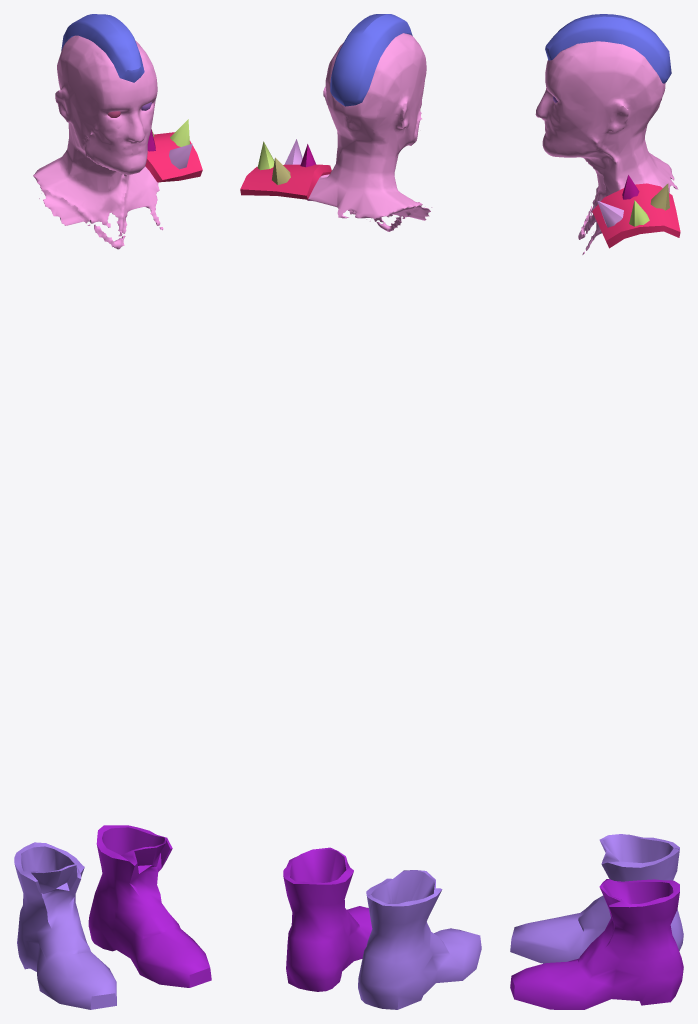
The picture shows the model from 3 angles, left to right: view 1: azimuth 30°, elevation 25°; view 2: azimuth 150°, elevation 25°; view 3: azimuth 270°, elevation 25°; orthographic projection.
Parts seen in each view (by area): view 1: split_parent_1, L_Shoe_Low_Final_0, L_Shoe_Low_Final_0.020, L_Hair_Low_Final_0, L_Sholder_Low_Final_0.004; view 2: split_parent_1, L_Shoe_Low_Final_0.020, L_Shoe_Low_Final_0, L_Hair_Low_Final_0, L_Sholder_Low_Final_0.004; view 3: split_parent_1, L_Shoe_Low_Final_0, L_Shoe_Low_Final_0.020, L_Hair_Low_Final_0, L_Sholder_Low_Final_0.004, L_Sholder_Low_Final_0.003.
Part boxes in pixels (left/top/right/bottom): split_parent_1: left=33, top=35, right=163, bottom=249; L_Shoe_Low_Final_0: left=88, top=825, right=211, bottom=987; L_Shoe_Low_Final_0.020: left=14, top=842, right=116, bottom=1009; L_Hair_Low_Final_0: left=61, top=14, right=144, bottom=82; L_Sholder_Low_Final_0.004: left=145, top=132, right=202, bottom=182; split_parent_1: left=307, top=33, right=432, bottom=231; L_Shoe_Low_Final_0.020: left=358, top=870, right=481, bottom=1009; L_Shoe_Low_Final_0: left=283, top=847, right=372, bottom=991; L_Hair_Low_Final_0: left=330, top=14, right=412, bottom=106; L_Sholder_Low_Final_0.004: left=240, top=164, right=331, bottom=199; split_parent_1: left=535, top=41, right=678, bottom=254; L_Shoe_Low_Final_0: left=510, top=879, right=683, bottom=1009; L_Shoe_Low_Final_0.020: left=510, top=834, right=683, bottom=963; L_Hair_Low_Final_0: left=545, top=14, right=671, bottom=83; L_Sholder_Low_Final_0.004: left=592, top=183, right=680, bottom=248; L_Sholder_Low_Final_0.003: left=597, top=201, right=623, bottom=227.
Size of the model in its own units: 0.1977 by 1 by 0.1642.
